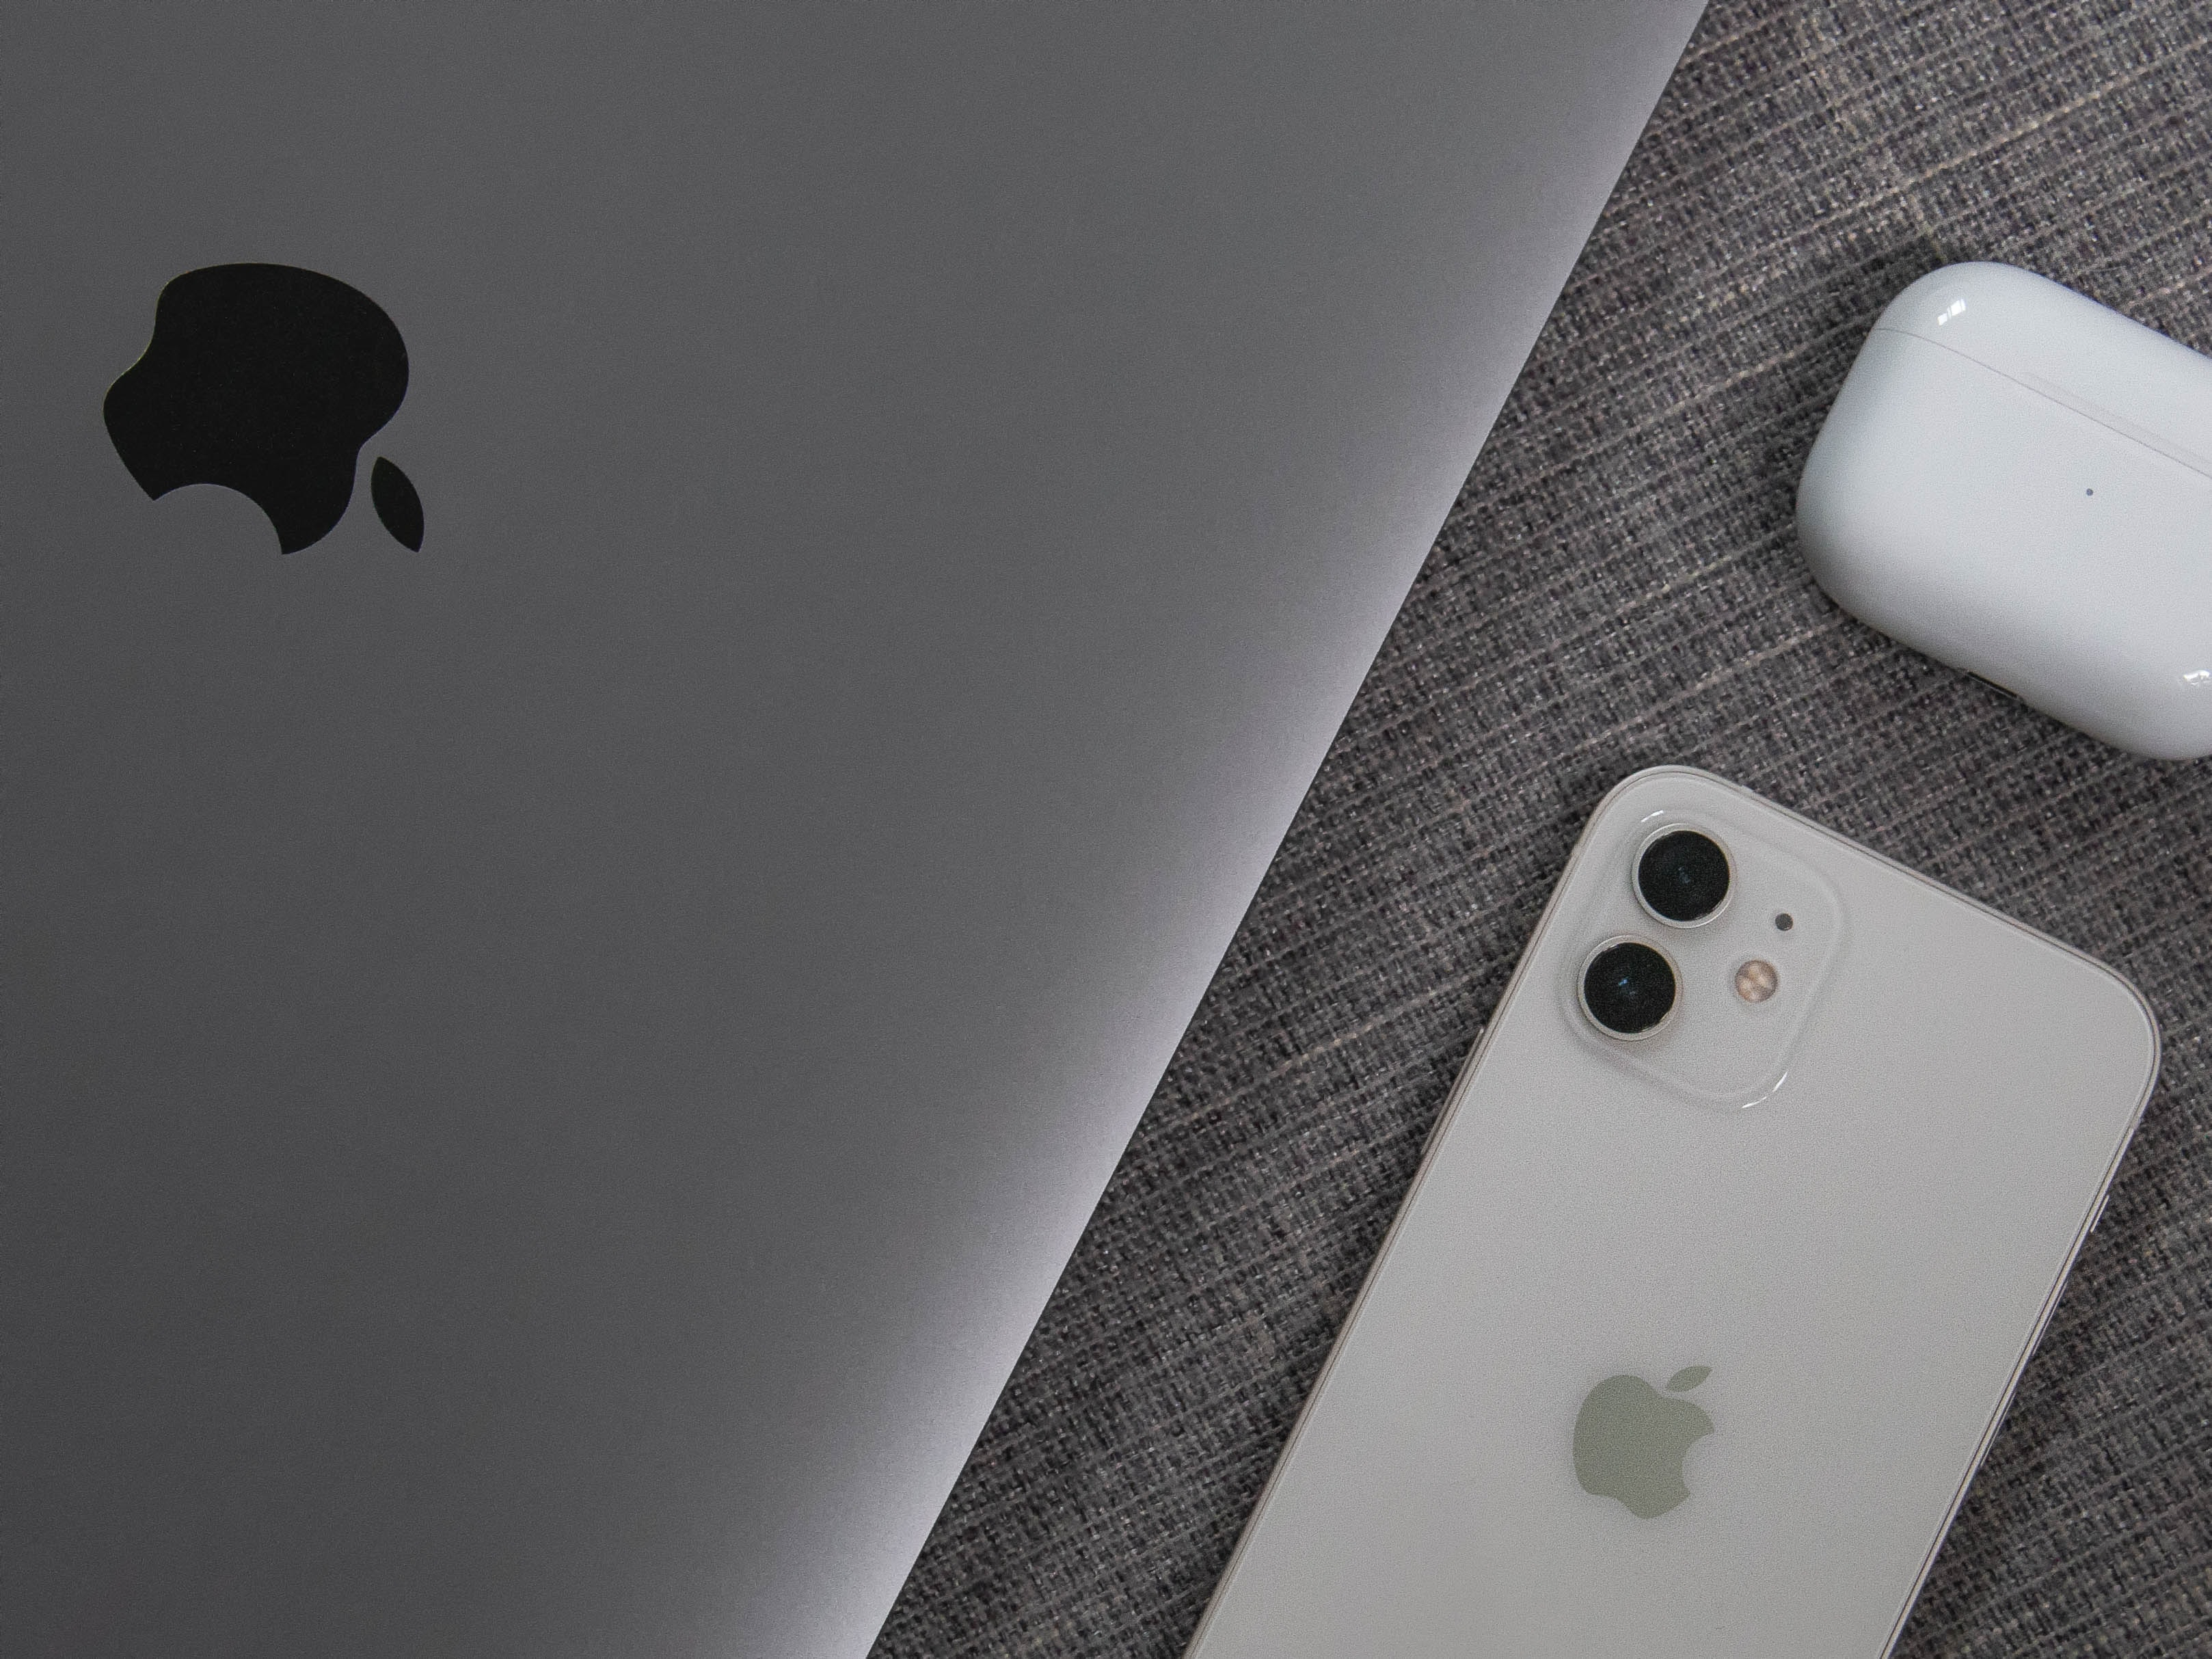airpods: (1789, 251, 2205, 772)
